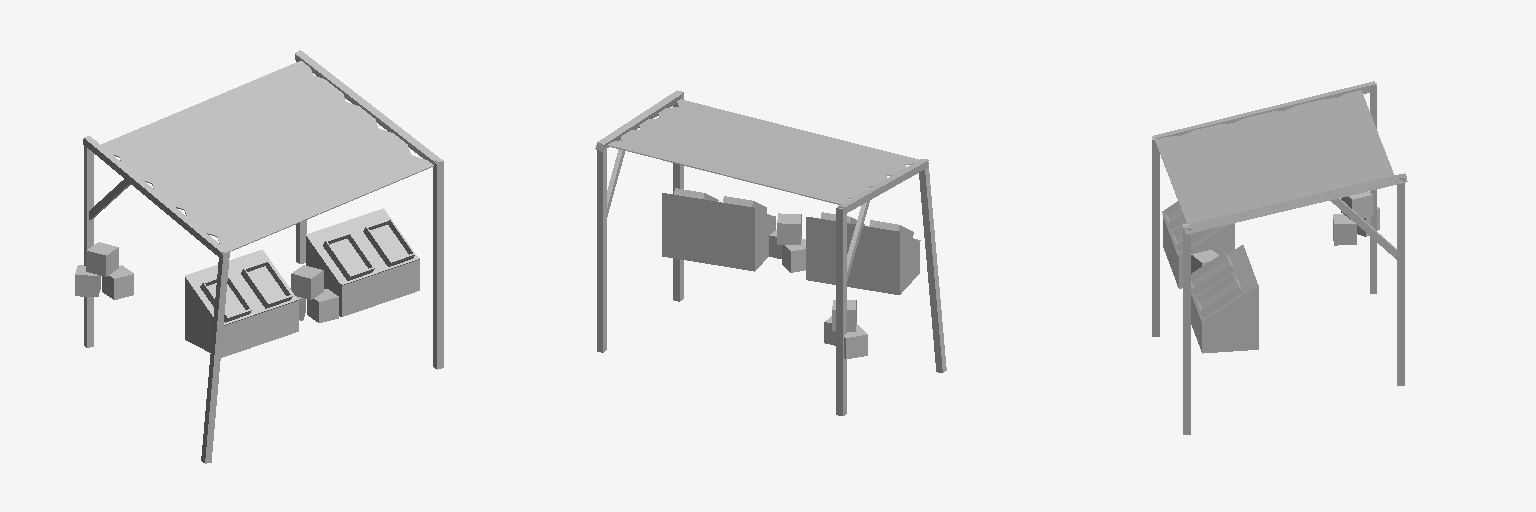
The model's file is full_shop.obj.
3 renders of one model, left to right at view 1: azimuth 30°, elevation 25°; view 2: azimuth 150°, elevation 25°; view 3: azimuth 270°, elevation 25°, orthographic.
Parts seen in each view (by area): view 1: Shop Full_shop pCube264, Full_shop pCube275 counter, Full_shop counter pCube361, Shop Full_shop pCube356, Shop Full_shop pCube355, pCube353 Shop Full_shop, Shop Full_shop pCube354, Shop Full_shop pCube358, Full_shop pCube276 food_crates, Full_shop food_crates pCube362, Full_shop food_crates pCube363, Full_shop food_crates pCube364 (+5 smaller); view 2: Shop Full_shop pCube264, Full_shop counter pCube361, Full_shop pCube275 counter, Shop Full_shop pCube358, Shop Full_shop pCube355, Shop Full_shop pCube357, pCube353 Shop Full_shop, Shop Full_shop pCube354, Shop Full_shop pCube356, Full_shop Boxes pCube280, Full_shop Boxes1 pCube328, Full_shop Boxes pCube328; view 3: Shop Full_shop pCube264, Full_shop counter pCube361, Shop Full_shop pCube354, Shop Full_shop pCube356, Shop Full_shop pCube357, Full_shop pCube275 counter, Shop Full_shop pCube355, pCube353 Shop Full_shop, Full_shop food_crates pCube362, Full_shop pCube276 food_crates, Shop Full_shop pCube358, Shop Full_shop pCube360 (+2 smaller).
Boxes of the visible parts, x1=… form: Shop Full_shop pCube264: x1=101, y1=61, x2=433, y2=251; Full_shop pCube275 counter: x1=185, y1=249, x2=298, y2=357; Full_shop counter pCube361: x1=306, y1=208, x2=419, y2=316; Shop Full_shop pCube356: x1=433, y1=160, x2=443, y2=369; Shop Full_shop pCube355: x1=201, y1=251, x2=229, y2=463; pCube353 Shop Full_shop: x1=83, y1=136, x2=227, y2=259; Shop Full_shop pCube354: x1=295, y1=50, x2=442, y2=164; Shop Full_shop pCube358: x1=84, y1=145, x2=93, y2=347; Full_shop pCube276 food_crates: x1=323, y1=232, x2=374, y2=280; Full_shop food_crates pCube362: x1=363, y1=219, x2=414, y2=266; Full_shop food_crates pCube363: x1=241, y1=260, x2=292, y2=308; Full_shop food_crates pCube364: x1=200, y1=276, x2=251, y2=322; Shop Full_shop pCube264: x1=607, y1=99, x2=918, y2=204; Full_shop counter pCube361: x1=662, y1=193, x2=775, y2=271; Full_shop pCube275 counter: x1=806, y1=217, x2=920, y2=294; Shop Full_shop pCube358: x1=836, y1=207, x2=846, y2=415; Shop Full_shop pCube355: x1=919, y1=159, x2=946, y2=372; Shop Full_shop pCube357: x1=597, y1=145, x2=606, y2=352; pCube353 Shop Full_shop: x1=838, y1=159, x2=928, y2=213; Shop Full_shop pCube354: x1=595, y1=91, x2=682, y2=151; Shop Full_shop pCube356: x1=673, y1=90, x2=683, y2=301; Full_shop Boxes pCube280: x1=777, y1=213, x2=801, y2=244; Full_shop Boxes1 pCube328: x1=844, y1=325, x2=867, y2=359; Full_shop Boxes pCube328: x1=782, y1=239, x2=805, y2=272; Shop Full_shop pCube264: x1=1155, y1=90, x2=1396, y2=223; Full_shop counter pCube361: x1=1191, y1=245, x2=1258, y2=353; Shop Full_shop pCube354: x1=1184, y1=173, x2=1407, y2=234; Shop Full_shop pCube356: x1=1183, y1=224, x2=1190, y2=434; Shop Full_shop pCube357: x1=1397, y1=178, x2=1404, y2=385; Full_shop pCube275 counter: x1=1162, y1=214, x2=1234, y2=288; Shop Full_shop pCube355: x1=1152, y1=136, x2=1159, y2=336; pCube353 Shop Full_shop: x1=1154, y1=81, x2=1375, y2=138; Full_shop food_crates pCube362: x1=1195, y1=273, x2=1242, y2=317; Full_shop pCube276 food_crates: x1=1191, y1=252, x2=1234, y2=295; Shop Full_shop pCube358: x1=1370, y1=83, x2=1376, y2=293; Shop Full_shop pCube360: x1=1330, y1=198, x2=1396, y2=259.
Size of the model in its own units: 264 by 240 by 208.